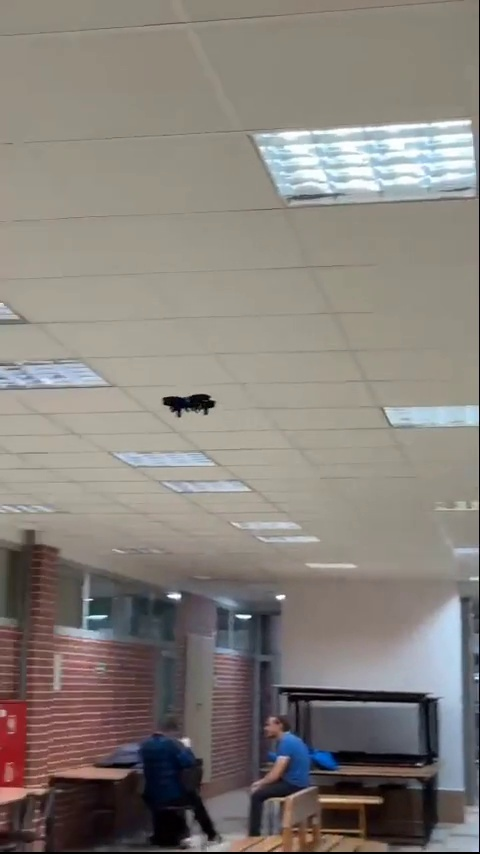drone: (158, 387, 215, 418)
no vest: (139, 712, 218, 841), (245, 707, 316, 820)
